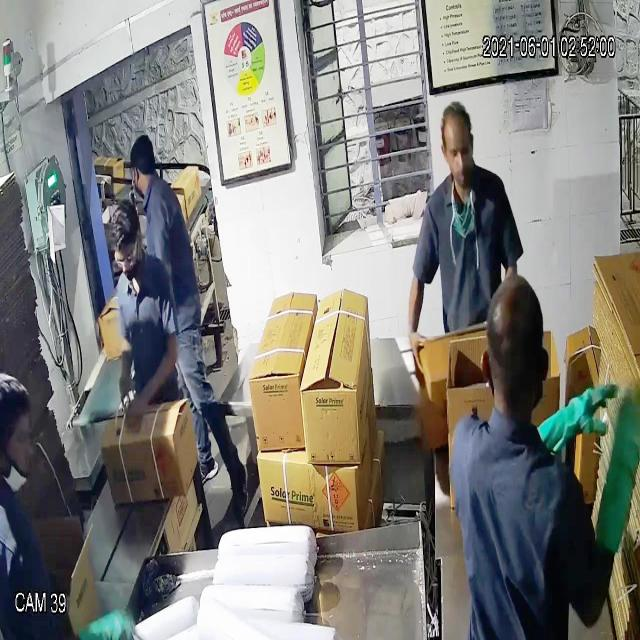glasses: (110, 237, 140, 274)
no-glass: (439, 136, 477, 168)
